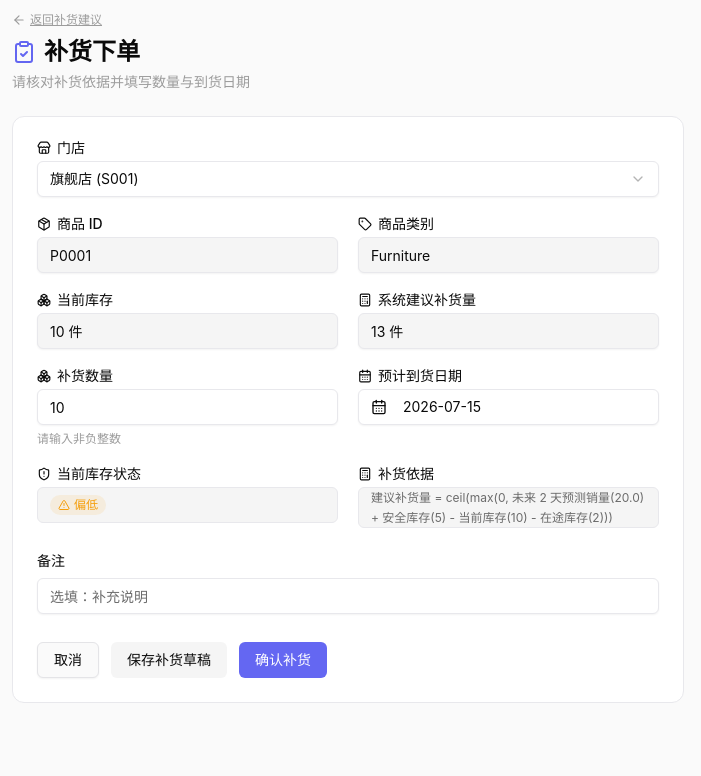
OrderPage › 提交失败时展示错误提示
The image size is (701, 776).
Expected: the dropdown reads "旗舰店 (S001)", [37,161,659,197]
Expected: the text "补货依据" is shown, [358,465,434,482]
Click the button "确认补货". click: (283, 660)
box: [239,642,327,678]
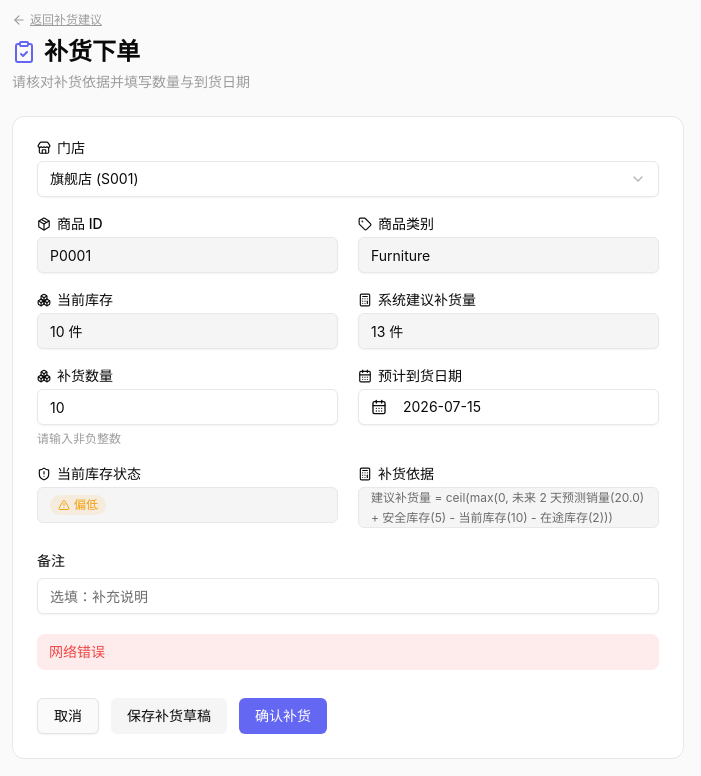
Expected: the text "网络错误" is shown, [37,634,659,670]
